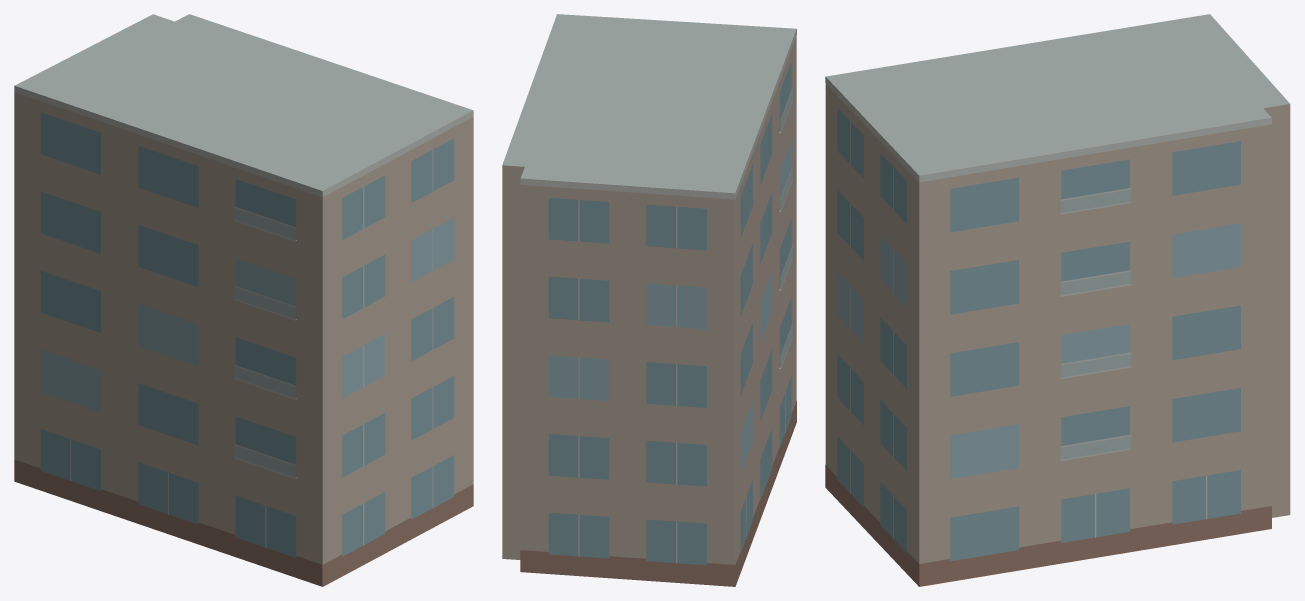
Rendered from survey-upis-32725897.glb.
3 views of the same model, side by side, from view 1: azimuth 30°, elevation 25°; view 2: azimuth 150°, elevation 25°; view 3: azimuth 270°, elevation 25° (orthographic). The views are drawn at different scales.
Parts seen in each view (by area): view 1: survey-upis-32725897.tmp; view 2: survey-upis-32725897.tmp; view 3: survey-upis-32725897.tmp.
Part boxes in pixels (x1,y1,x2,y2): survey-upis-32725897.tmp: (14, 14, 473, 586); survey-upis-32725897.tmp: (502, 14, 796, 586); survey-upis-32725897.tmp: (825, 14, 1290, 586).
Size of the model in its own units: 12.88 by 15.25 by 15.64.
